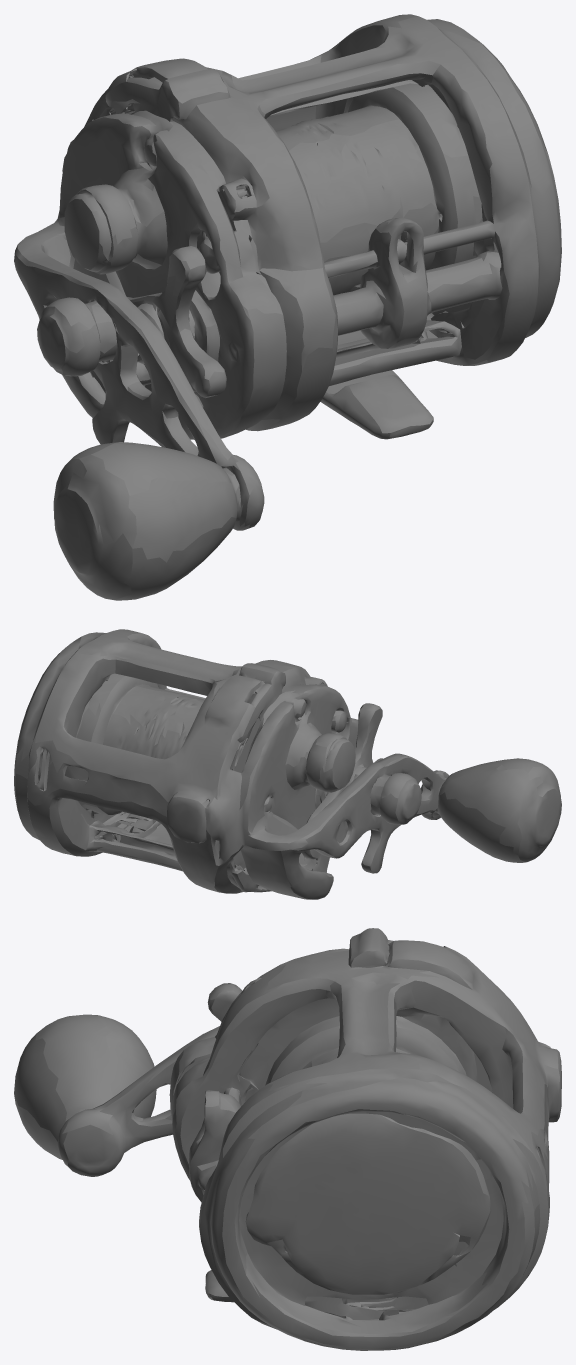
File: completion_reel_0.glb
3 renders of one model, top to bottom at view 1: azimuth 30°, elevation 25°; view 2: azimuth 150°, elevation 25°; view 3: azimuth 270°, elevation 25°, orthographic. The views are drawn at different scales.
Visible parts, largest first — view 1: geometry_0; view 2: geometry_0; view 3: geometry_0.
Boxes of the visible parts, x1=… form: geometry_0: x1=14, y1=14, x2=561, y2=600; geometry_0: x1=14, y1=629, x2=561, y2=899; geometry_0: x1=14, y1=928, x2=561, y2=1350.
Bounding box in the file's own units: 1 × 0.5885 × 0.9257.
1 material, 1 textured.
